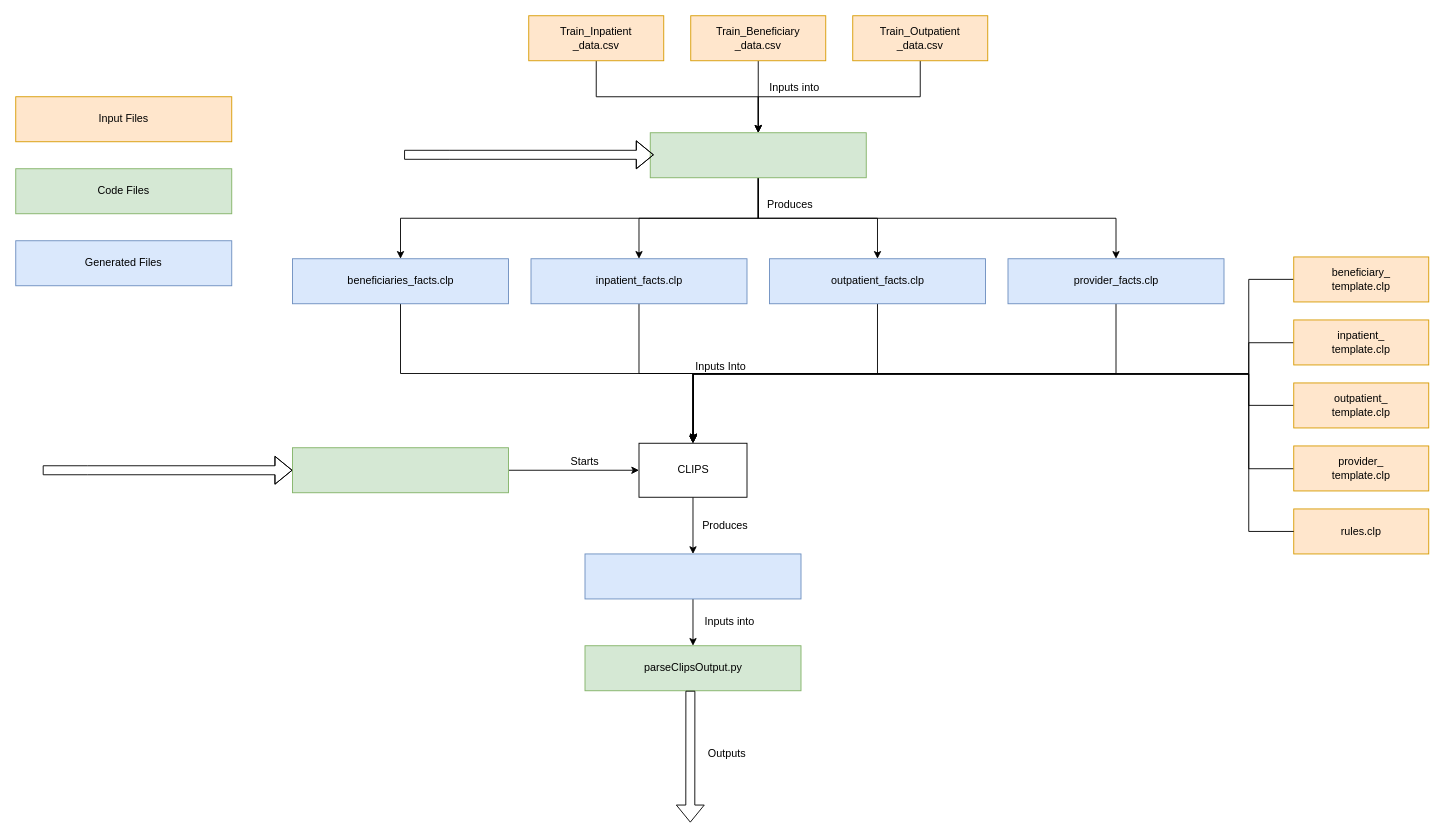
Some shapes in this 1445 by 838 pixel diagram are drawn without their labels. Here are the shapes that lost their labels. From the top down, the box of each, then its label:
(649, 132, 866, 178): csvBeneficiaryToClipsFacts.py csvToClipsFacts.py
(292, 447, 508, 493): startClipsFacts.sh
(584, 553, 801, 599): outputfraudfound.txt
